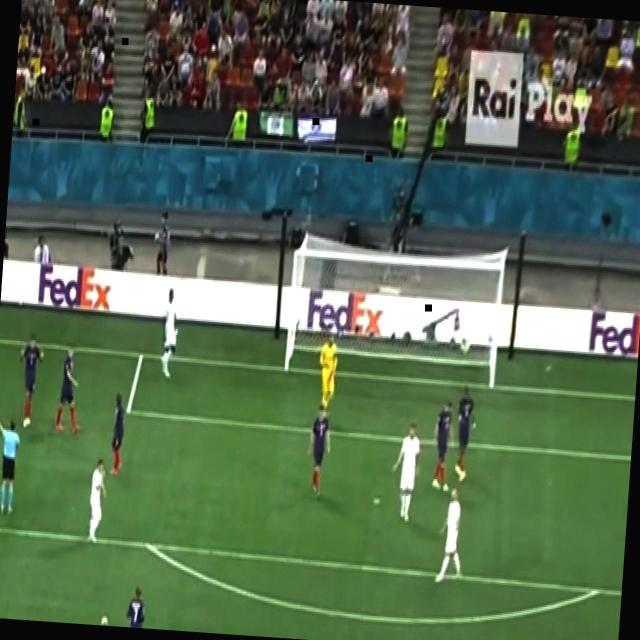ball: (17, 296, 24, 308)
player-white: (388, 419, 424, 524), (435, 486, 468, 585), (54, 346, 87, 435), (15, 336, 46, 430), (304, 404, 334, 496), (451, 385, 479, 483), (430, 400, 456, 494), (158, 288, 182, 382), (0, 415, 22, 517), (87, 457, 110, 542), (316, 332, 340, 412), (109, 391, 128, 476), (125, 584, 147, 628), (85, 611, 119, 627)
